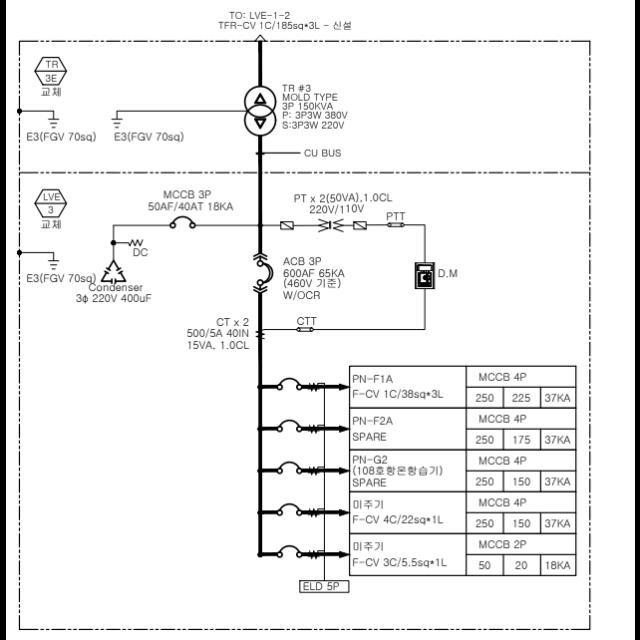ACB: (256, 260, 274, 284)
CH: (254, 34, 264, 41)
CT: (254, 327, 264, 339)
GND: (46, 118, 60, 128), (110, 118, 122, 128), (46, 260, 58, 270)
MCCB: (169, 215, 195, 229), (276, 503, 302, 517), (276, 545, 300, 559), (276, 420, 302, 432), (275, 462, 301, 474), (276, 378, 300, 390)
PT: (318, 218, 342, 232)
SC: (99, 260, 125, 284)
ZCT: (307, 382, 319, 392), (308, 508, 320, 518), (308, 424, 318, 434), (308, 466, 318, 476), (308, 550, 318, 560)
